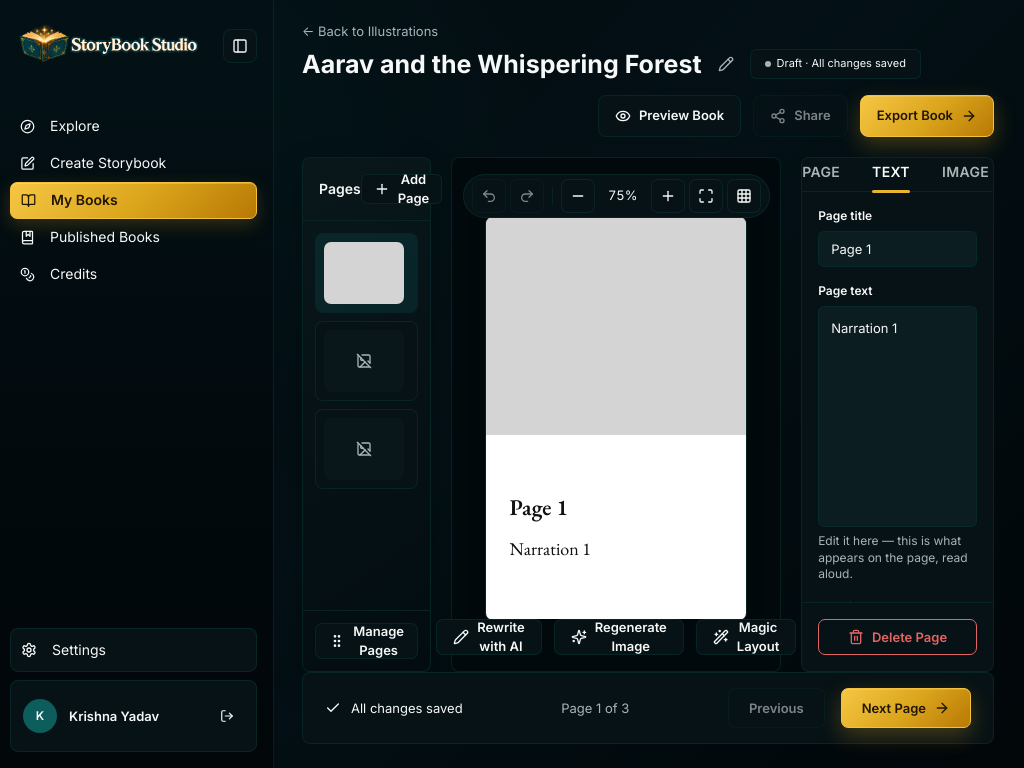
the book editor › explains the layout the server picked
Expected: the heading "Aarav and the Whispering Forest" is shown, [302, 49, 702, 79]
Click the button "Magic Layout": (746, 637) [696, 619, 796, 655]
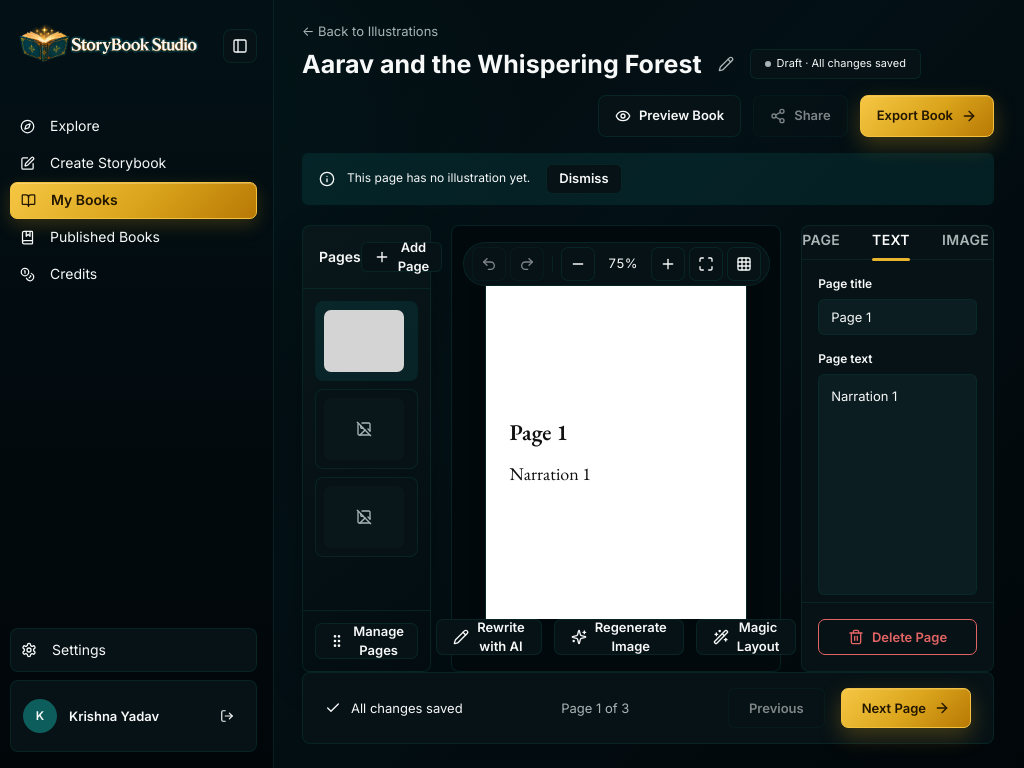
Now the text "This page has no illustration yet." is shown, box [347, 170, 530, 187]
